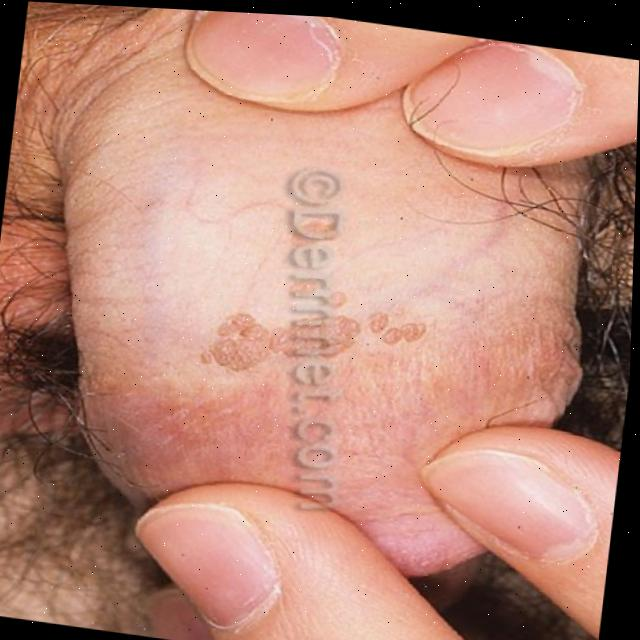Shingles: (203, 280, 428, 406)
